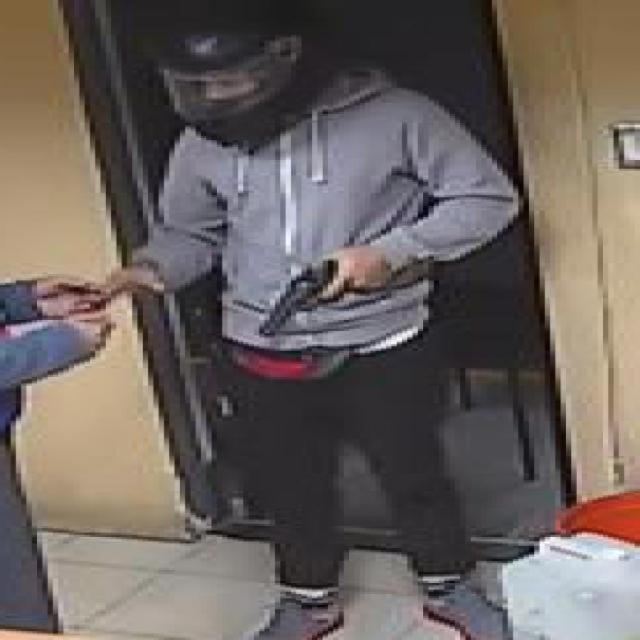pistol: (254, 247, 392, 338)
